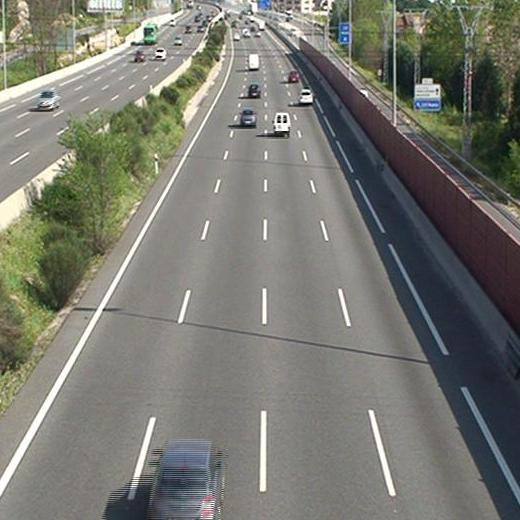car: (148, 446, 222, 520), (240, 110, 255, 126), (298, 89, 313, 103), (247, 84, 260, 98), (288, 70, 298, 83)
van: (273, 113, 290, 135), (248, 53, 260, 71)
